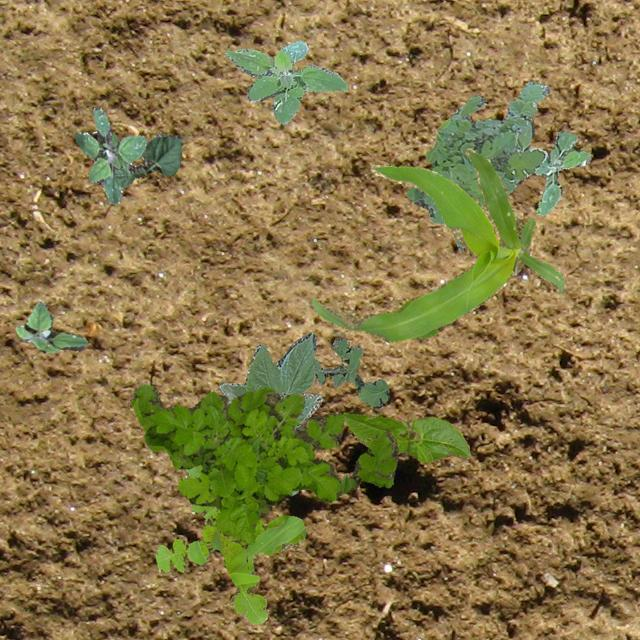crop: (308, 146, 564, 342), (218, 332, 322, 494), (340, 410, 470, 460), (114, 132, 182, 188)
weed: (130, 384, 398, 544), (406, 80, 548, 250), (154, 464, 304, 624), (224, 40, 348, 124), (514, 118, 590, 215), (74, 105, 146, 204), (312, 336, 388, 406), (14, 300, 86, 352)
